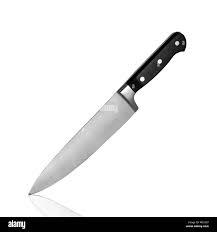Knife: (27, 30, 186, 195)
